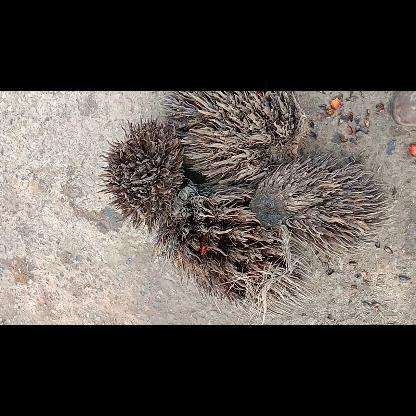Janjang kosong: (152, 180, 314, 314), (249, 154, 394, 256), (161, 91, 305, 183), (99, 116, 183, 233)
